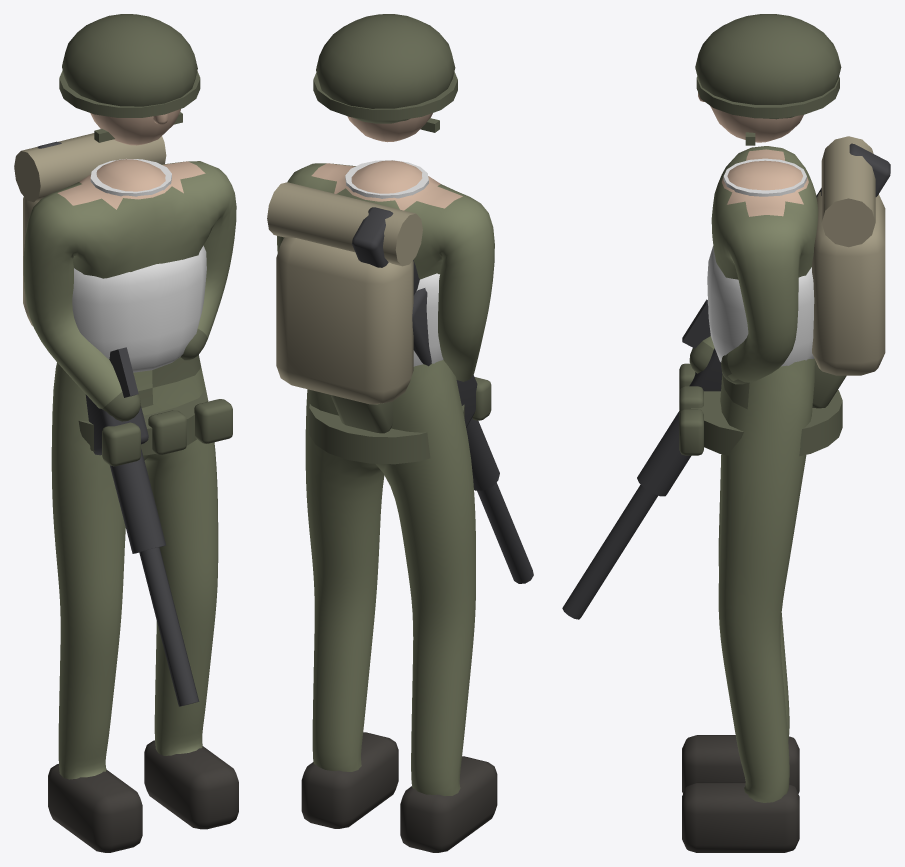
File: machine_gunner.glb
The picture shows the model from 3 angles, left to right: view 1: azimuth 30°, elevation 25°; view 2: azimuth 150°, elevation 25°; view 3: azimuth 270°, elevation 25°; orthographic projection. The views are drawn at different scales.
Parts seen in each view (by area): view 1: body; view 2: body; view 3: body.
Part boxes in pixels (bbox=[...]): body: bbox=[14, 14, 238, 852]; body: bbox=[267, 14, 533, 852]; body: bbox=[562, 14, 890, 852].
Bounding box in the file's own units: 0.482 × 1.8 × 0.6696.
